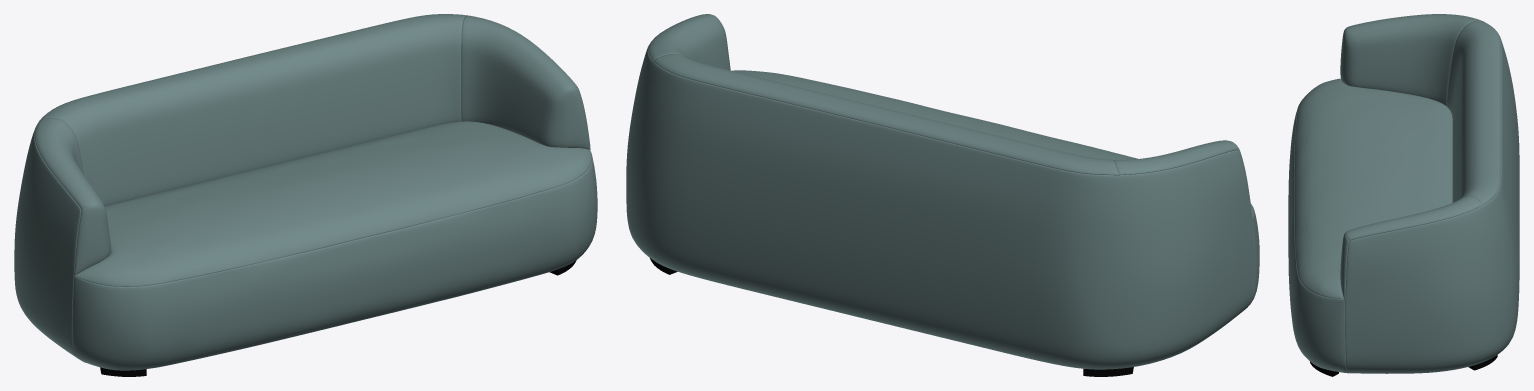
File: Sofa.fbx
3 views of the same model, side by side, from view 1: azimuth 30°, elevation 25°; view 2: azimuth 150°, elevation 25°; view 3: azimuth 270°, elevation 25° (orthographic). The views are drawn at different scales.
Visible parts, largest first — view 1: sofacabochon:sobc_legs1; view 2: sofacabochon:sobc_legs1; view 3: sofacabochon:sobc_legs1.
Part boxes in pixels (bbox=[...]): sofacabochon:sobc_legs1: bbox=[14, 14, 597, 376]; sofacabochon:sobc_legs1: bbox=[626, 14, 1259, 376]; sofacabochon:sobc_legs1: bbox=[1288, 14, 1519, 376].
Size of the model in its own units: 18.51 by 6.48 by 8.09.
